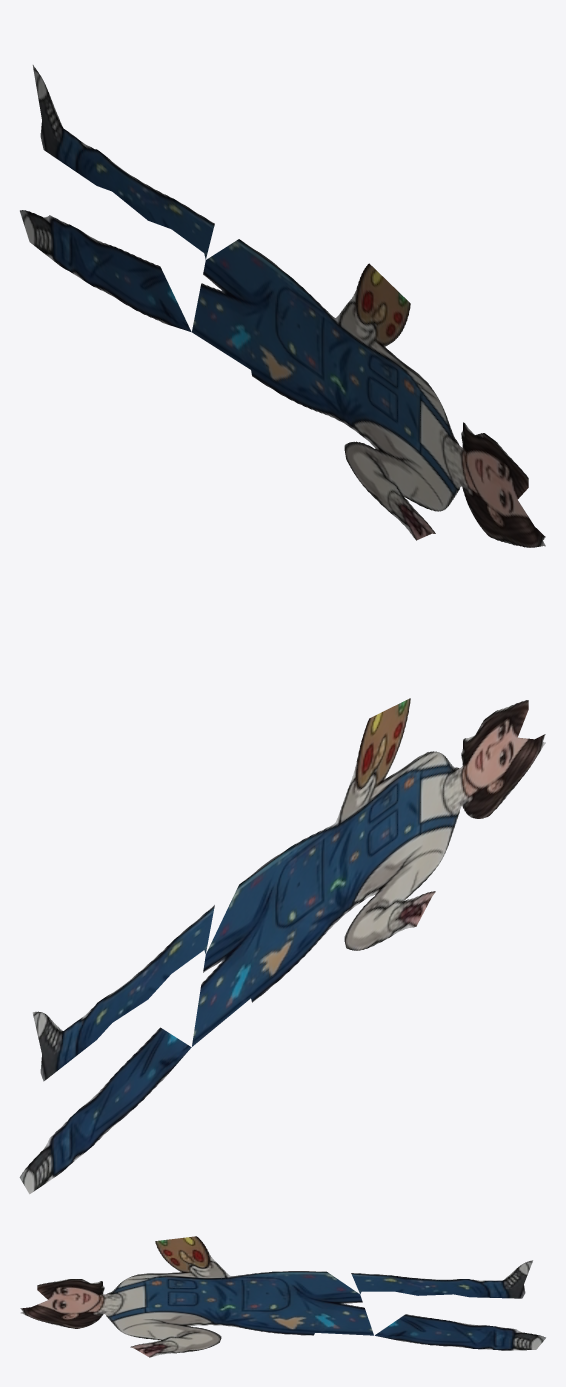
The model's file is person.obj.
3 renders of one model, top to bottom at view 1: azimuth 30°, elevation 25°; view 2: azimuth 150°, elevation 25°; view 3: azimuth 270°, elevation 25°, orthographic. The views are drawn at different scales.
Parts seen in each view (by area): view 1: person_cutout; view 2: person_cutout; view 3: person_cutout.
Boxes of the visible parts, x1,y1,x2,y2 form: person_cutout: (20,65,545,547); person_cutout: (19,698,545,1194); person_cutout: (20,1236,545,1357).
Size of the model in its own units: 0 by 0.046 by 0.15.
